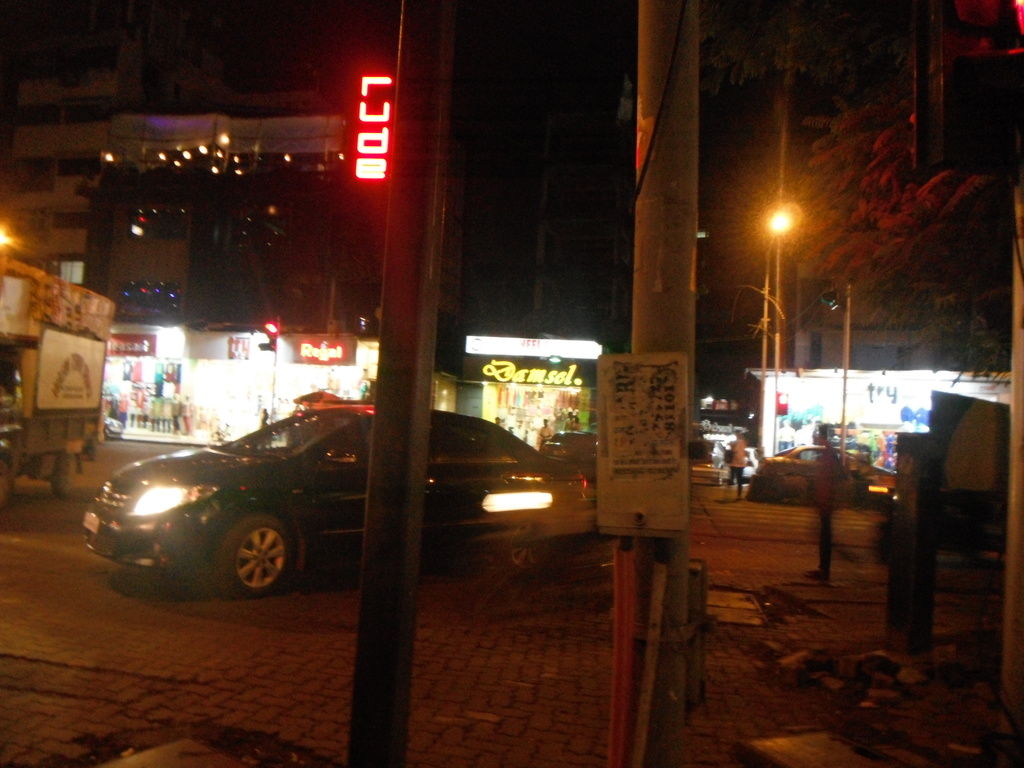Car: (78, 399, 588, 596), (750, 442, 901, 498), (544, 426, 597, 461), (741, 444, 753, 478)
